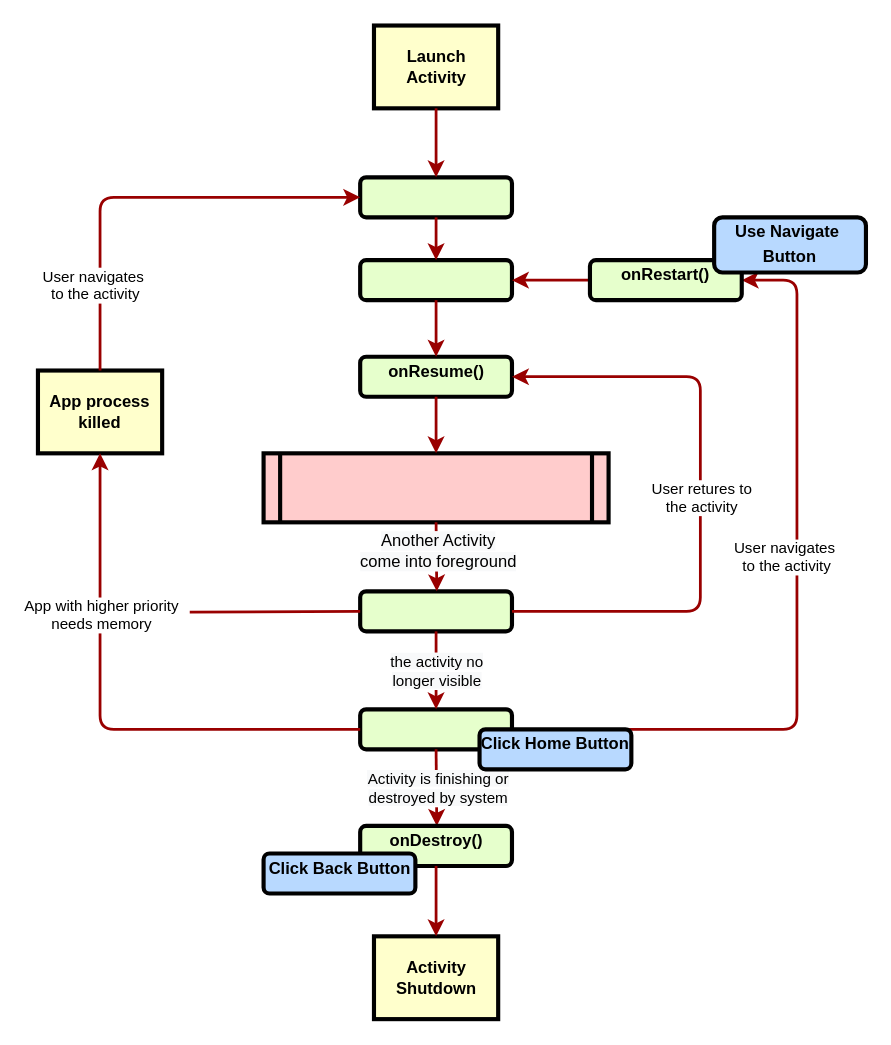
Image size: 891x1045. Some labels were removed from this diagram. The centre of each missing label's shape, as x and y in pixels:
Activity Running: the point at 435,487
onCreate(): the point at 435,197
onPause(): the point at 435,611
onStart(): the point at 435,279
onStop(): the point at 435,729
